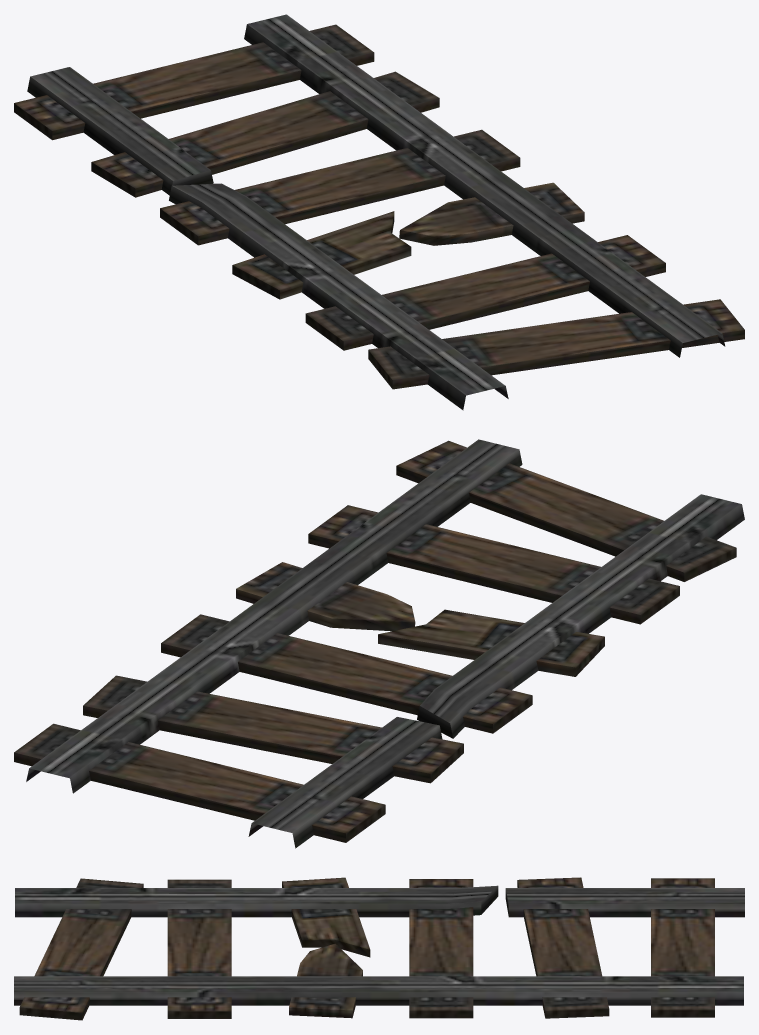
The model's file is Treasure_Rail_01.FBX.
The picture shows the model from 3 angles, top to bottom: view 1: azimuth 30°, elevation 25°; view 2: azimuth 150°, elevation 25°; view 3: azimuth 270°, elevation 25°; orthographic projection. The views are drawn at different scales.
Parts seen in each view (by area): view 1: Treasure_Rail_01; view 2: Treasure_Rail_01; view 3: Treasure_Rail_01.
Part boxes in pixels (x1=…): Treasure_Rail_01: x1=14, y1=14, x2=744, y2=410; Treasure_Rail_01: x1=14, y1=439, x2=744, y2=848; Treasure_Rail_01: x1=14, y1=877, x2=744, y2=1020.
Size of the model in its own units: 1.4 by 0.058 by 3.2.
